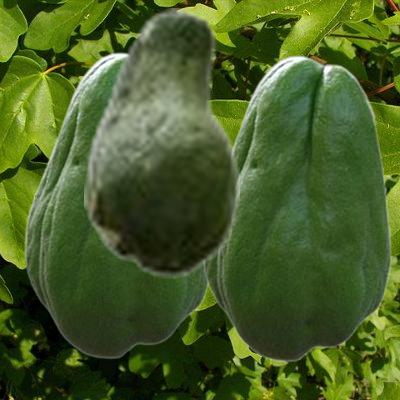sayote: (202, 55, 391, 361), (24, 52, 209, 358), (84, 8, 238, 278)
